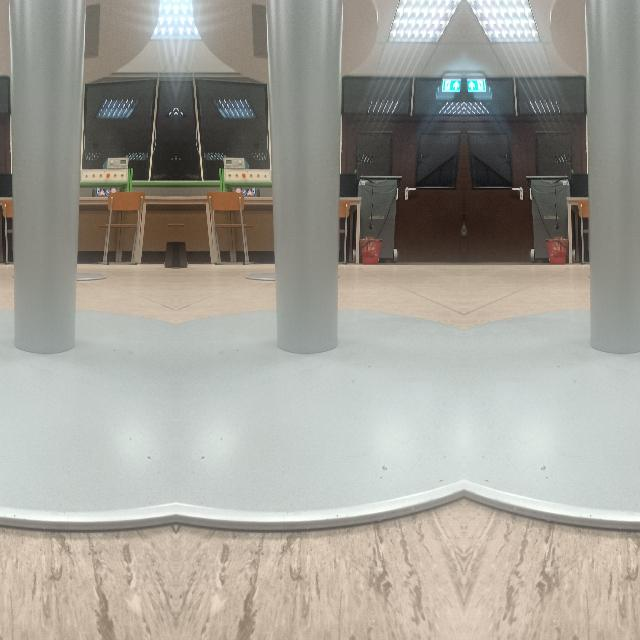obstacle: (175, 158, 462, 536), (465, 158, 640, 536), (0, 158, 174, 536)
